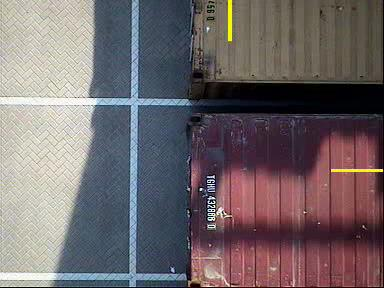groundmarker_2: (27, 36, 126, 110)
